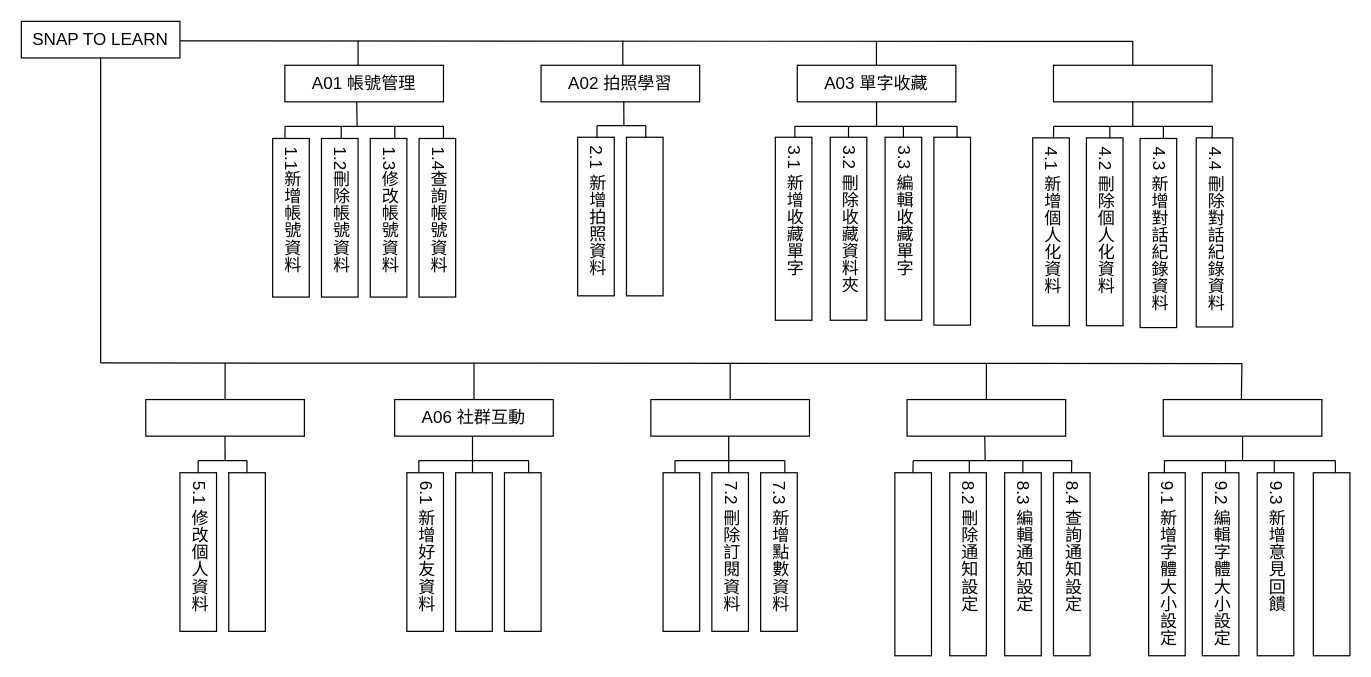
The diagram is 1371 pixels wide and 677 high, and some of its shapes have lost their labels. The centre of each missing label's shape, as x and y in pixels:
"2.2 查詢拍照資料" goes at [644,216].
"3.4 查詢收藏 單字" goes at [952,230].
"5.2 查詢個人 資料" goes at [246,551].
"6.2 刪除好友資料" goes at [473,551].
"6.3 查詢 好友資料" goes at [522,551].
"7.1 新增訂閱資料" goes at [681,551].
"8.1 新增通知設定" goes at [912,564].
"9.3 查詢意見回饋紀錄" goes at [1331,564].
"A04 AI對話練習" goes at [1132,83].
"A05 個人檔案" goes at [224,417].
"A07 訂閱與點數" goes at [729,417].
"A08通知提醒" goes at [986,417].
"A09系統設定" goes at [1242,417].
